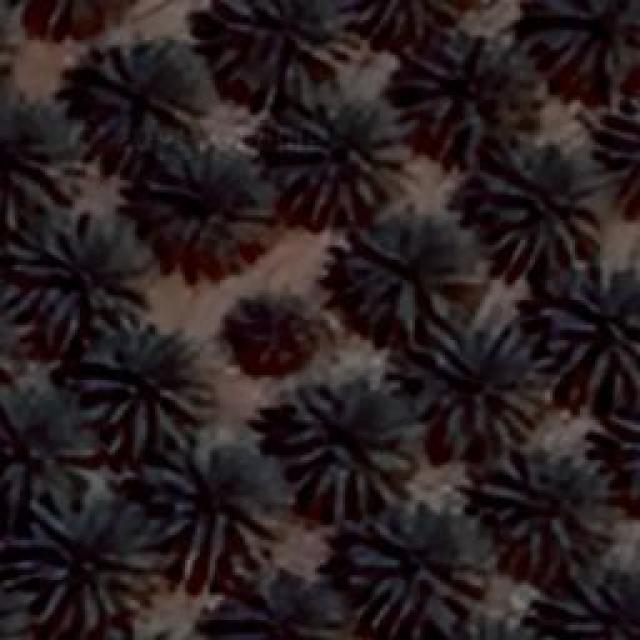PalmTree: (42, 18, 409, 152), (392, 24, 540, 158), (340, 500, 490, 632), (17, 500, 165, 632), (268, 88, 410, 222), (5, 207, 153, 335), (152, 437, 278, 585), (75, 322, 210, 458), (475, 432, 620, 558), (410, 318, 548, 450), (468, 140, 602, 272), (340, 210, 475, 340), (282, 387, 418, 515), (140, 136, 262, 259), (200, 0, 357, 92), (82, 40, 202, 158), (538, 262, 638, 400), (2, 385, 86, 513), (221, 570, 349, 640), (527, 0, 637, 72), (226, 304, 314, 384), (552, 564, 638, 638), (600, 84, 640, 211), (5, 0, 134, 31), (613, 385, 640, 510), (414, 616, 552, 640), (0, 280, 27, 395), (76, 620, 211, 640), (0, 556, 28, 640), (420, 623, 552, 640), (73, 624, 211, 640), (0, 0, 15, 100), (0, 0, 12, 103)
